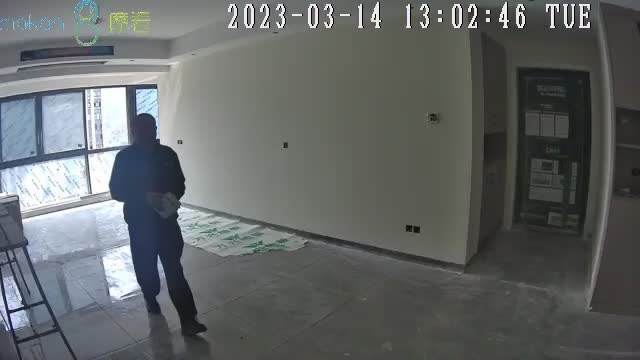people: (109, 113, 208, 335)
window: (1, 86, 159, 215)
